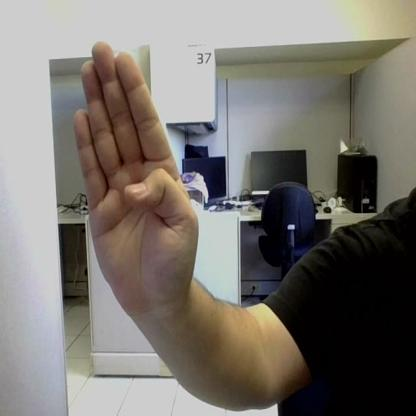B: (74, 42, 198, 299)
